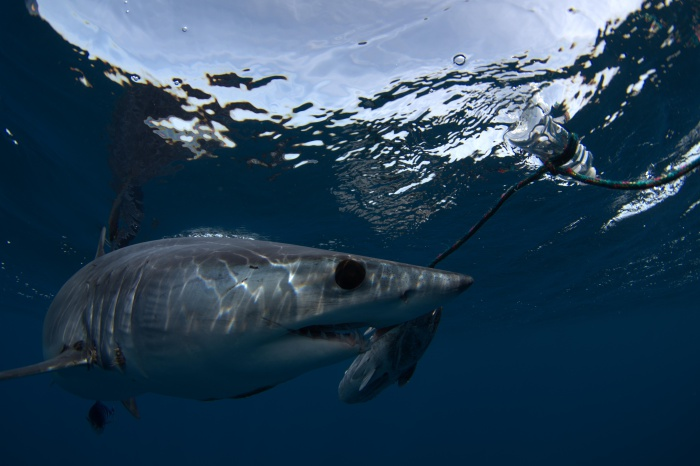Mako: (1, 225, 502, 420)
